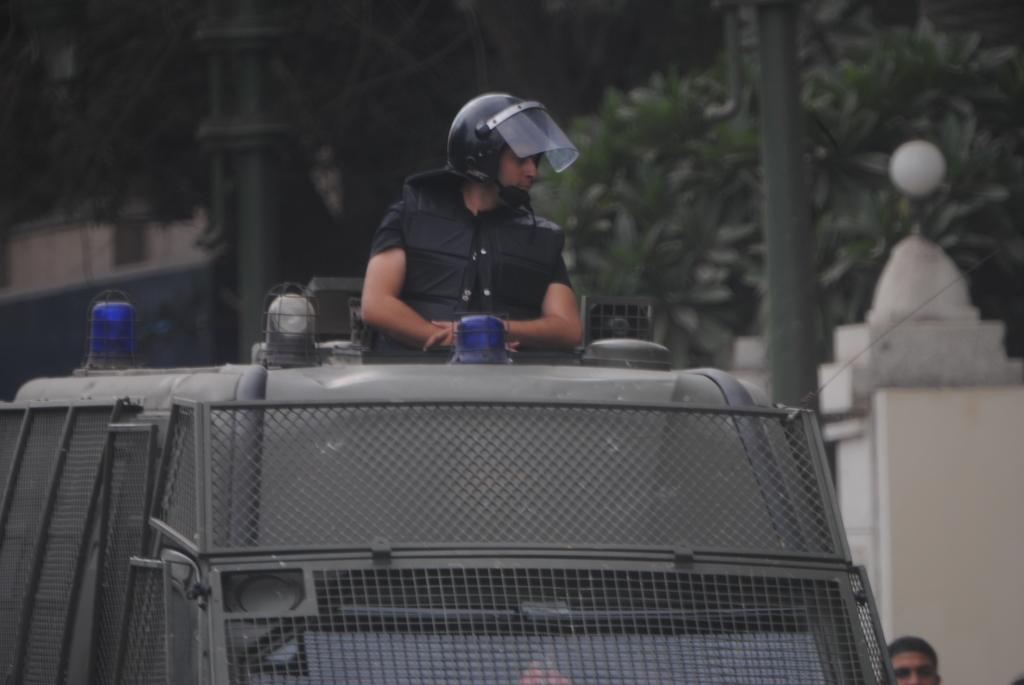helmet: (446, 93, 580, 201)
